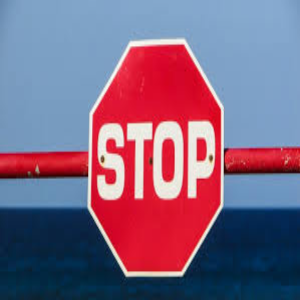STOP_SIGN: (87, 37, 225, 277)
